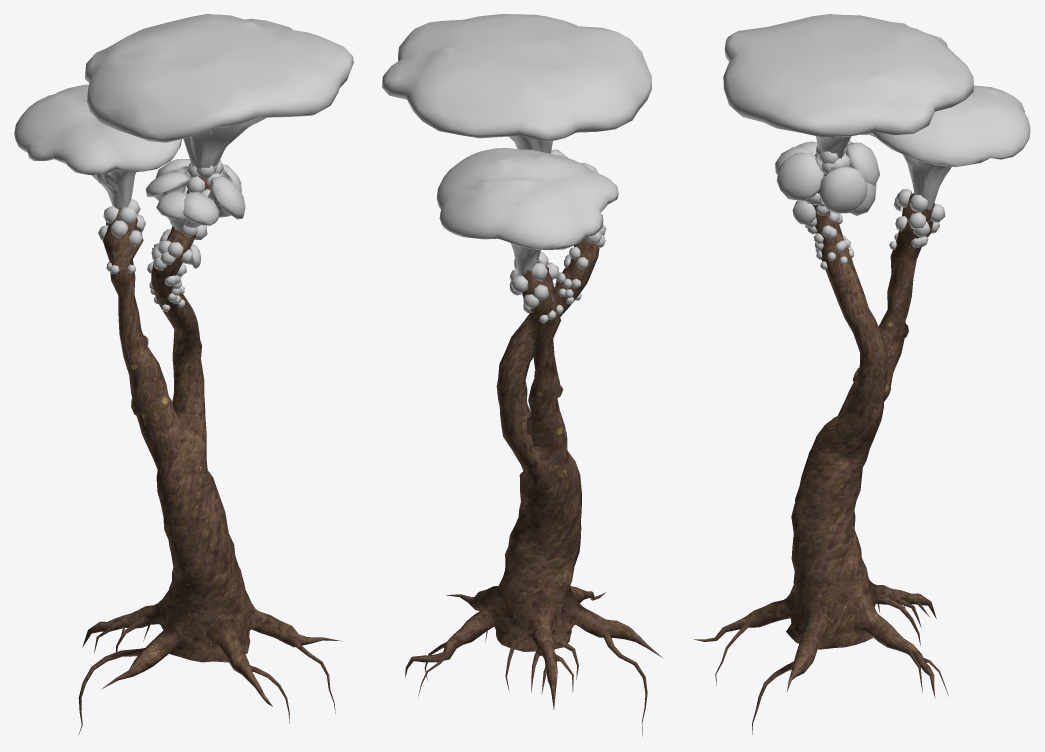
File: Shrooomtree_2_L1.fbx
3 views of the same model, side by side, from view 1: azimuth 30°, elevation 25°; view 2: azimuth 150°, elevation 25°; view 3: azimuth 270°, elevation 25° (orthographic).
Visible parts, largest first — view 1: polySurface99; view 2: polySurface99; view 3: polySurface99.
Part boxes in pixels (x1,y1,x2,y2): polySurface99: (14,14,353,735); polySurface99: (382,14,663,736); polySurface99: (693,14,1030,734).
Bounding box in the file's own units: 545 × 1355 × 627.
